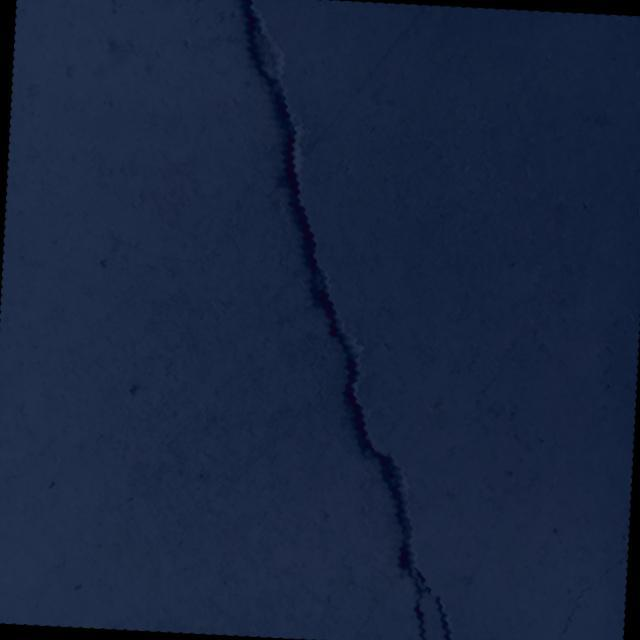crack: (206, 0, 487, 640), (556, 525, 629, 640)
